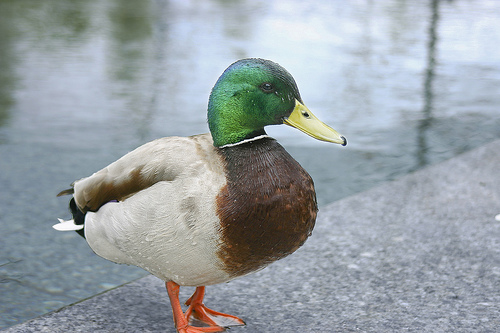duck: (15, 30, 370, 333)
